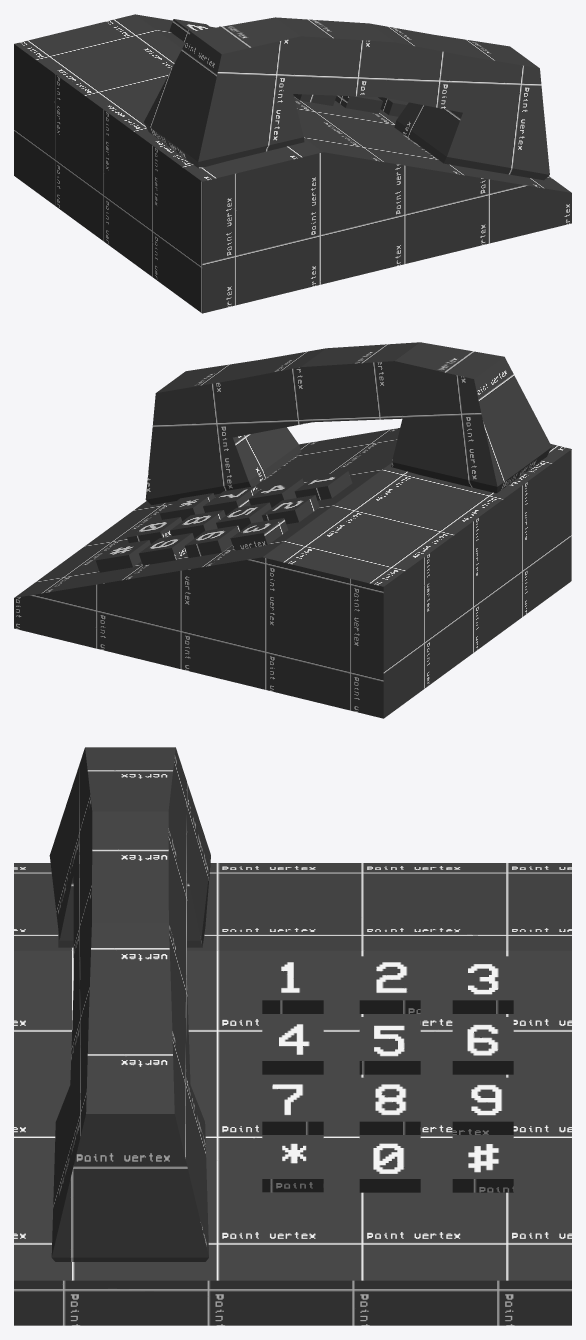
The model's file is telephone export1.fbx.
3 views of the same model, one above another, from view 1: azimuth 30°, elevation 25°; view 2: azimuth 150°, elevation 25°; view 3: azimuth 270°, elevation 25° (orthographic). The views are drawn at different scales.
Visible parts, largest first — view 1: telephone, phone, num_7, num_3; view 2: telephone, phone, num_3, num_6, num_9, num_1, num_#, num_2, num_4, num_7, num_5, num_8 (+2 smaller); view 3: telephone, phone, num_1, num_2, num_3, num_4, num_5, num_6, num_7, num_*, num_0, num_# (+2 smaller).
Part boxes in pixels (x1,y1,x2,y2): telephone: (14,14,571,313); phone: (144,17,549,180); num_7: (335,95,382,113); num_3: (169,19,211,42); telephone: (14,428,571,718); phone: (145,342,551,504); num_3: (230,518,287,550); num_6: (184,525,239,557); num_9: (139,533,194,565); num_1: (294,471,352,500); num_#: (95,540,150,572); num_2: (262,495,319,524); num_4: (249,478,304,507); num_7: (203,486,258,515); num_5: (216,502,271,530); num_8: (170,510,225,538); telephone: (14,863,571,1325); phone: (49,747,210,1261); num_1: (262,956,323,1013); num_2: (359,956,420,1013); num_3: (452,956,513,1013); num_4: (262,1017,323,1074); num_5: (359,1017,420,1074); num_6: (452,1017,513,1074); num_7: (262,1077,323,1134); num_*: (262,1135,323,1192); num_0: (359,1135,420,1192); num_#: (452,1135,513,1192).
Size of the model in its own units: 194 by 116 by 171.
2 materials, 2 textured.
